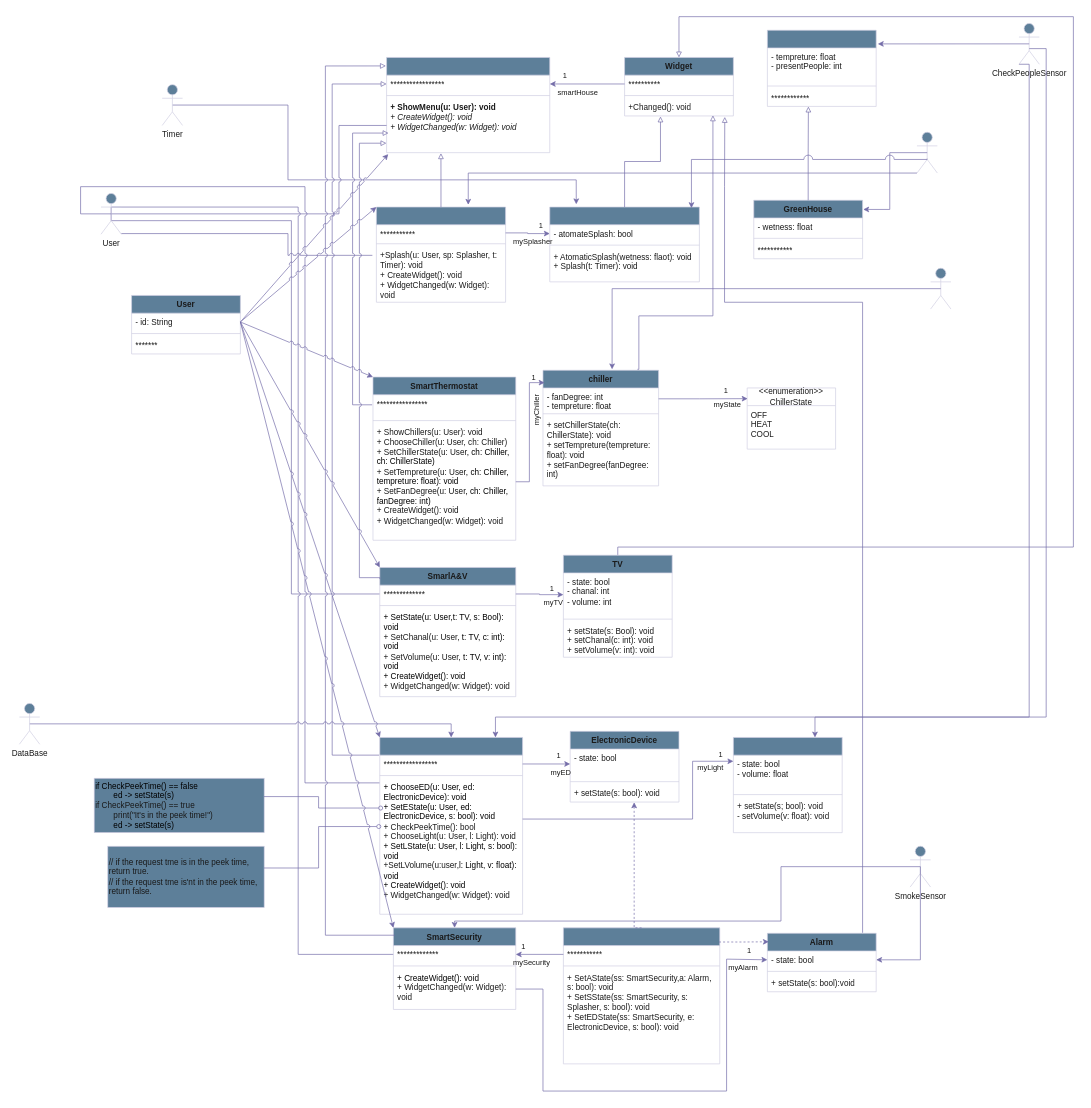
Some shapes in this 1091 by 1108 pixel diagram are drawn without their labels. Each missing label, with the box of its shape:
IrrigationMediator: (376, 206, 506, 302)
Light: (733, 737, 842, 833)
Room: (767, 30, 876, 106)
SecurityHandler: (563, 927, 720, 1064)
SmartElectronicSystem: (379, 737, 523, 914)
SmartHouseMediator: (386, 57, 550, 153)
Splasher: (549, 206, 699, 282)
TempretureSensor: (930, 268, 951, 309)
wetnessSensor: (916, 132, 937, 173)
